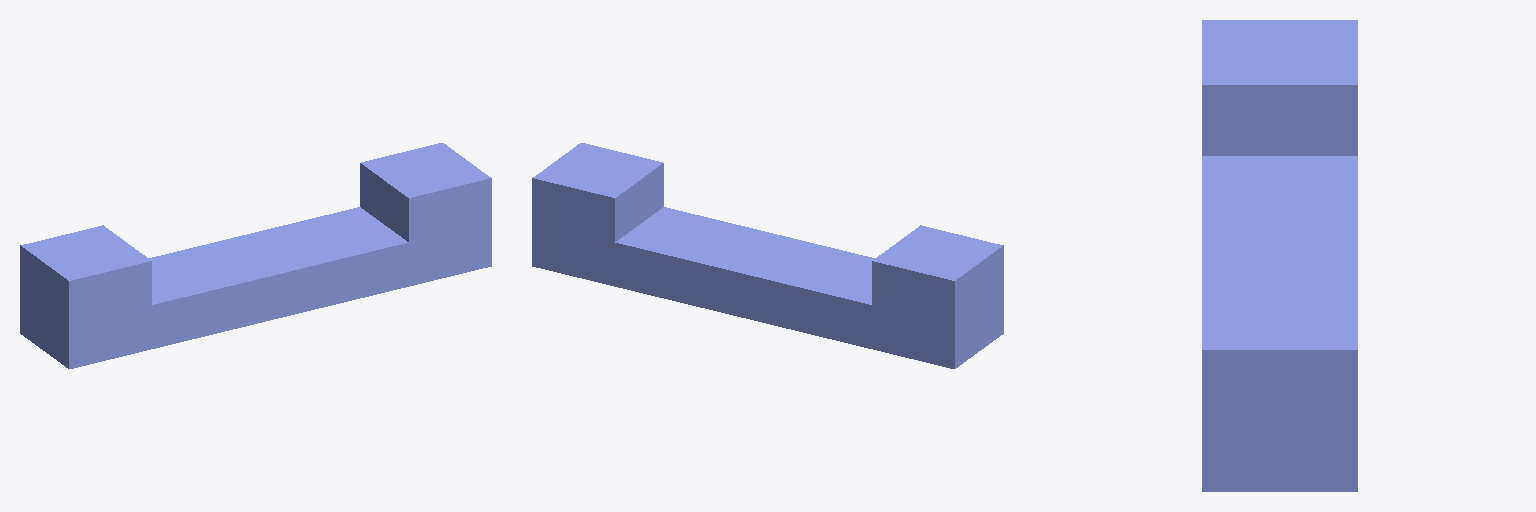
robot.urdf — obj_5:
<robot name="obj_5" version="1.0">
  <link name="obj_5_link">
    <collision name="obj_5_collision_1">
      <origin rpy="0.00000 0.00000 1.57080" xyz="0.13204 1.87503 1.12839"/>
      <geometry>
        <mesh filename="../meshes/obj/Cube.014.obj" scale="1.00000 0.98000 1.00000"/>
      </geometry>
    </collision>
    <collision name="obj_5_collision_2">
      <origin rpy="0.00000 0.00000 1.57080" xyz="-2.88312 1.87460 1.12839"/>
      <geometry>
        <mesh filename="../meshes/obj/Cube.015.obj" scale="1.00000 0.98000 1.00000"/>
      </geometry>
    </collision>
    <collision name="obj_5_collision_3">
      <origin rpy="0.00000 0.00000 1.57080" xyz="-1.37420 1.87525 0.94079"/>
      <geometry>
        <mesh filename="../meshes/obj/Cube.016.obj" scale="2.00000 6.08000 1.00000"/>
      </geometry>
    </collision>
    <inertial>
      <inertia ixx="6.65506" ixy="0.00000" ixz="-0.00000" iyy="0.48424" iyz="-0.00000" izz="6.58953"/>
      <origin rpy="0.00000 0.00000 0.00000" xyz="-1.37550 1.87500 1.04588"/>
      <mass value="5.00000"/>
    </inertial>
    <visual name="obj_5">
      <material name="turnaxis"/>
      <origin rpy="0.00000 0.00000 1.57080" xyz="-1.37550 1.87500 1.04588"/>
      <geometry>
        <mesh filename="../meshes/obj/luban-lock-sliding.004.obj" scale="0.05000 0.05000 0.05000"/>
      </geometry>
    </visual>
  </link>
  <material name="turnaxis">
    <color rgba="0.63922 0.70196 1.00000 1.00000"/>
  </material>
</robot>

--- Facts derived from the render (not from the file) ---
The picture shows the robot from 3 angles, left to right: view 1: azimuth 30°, elevation 25°; view 2: azimuth 150°, elevation 25°; view 3: azimuth 270°, elevation 25°; orthographic projection.
Robot: obj_5 — 1 links, 0 joints (none); root link obj_5_link; default pose: every joint at zero.
Links seen in each view (by area): view 1: obj_5_link; view 2: obj_5_link; view 3: obj_5_link.
Boxes of the visible links, x1,y1,x2,y2 form: obj_5_link: [20, 143, 491, 368]; obj_5_link: [532, 143, 1003, 368]; obj_5_link: [1202, 20, 1357, 491].
Bounding box of the posed robot: 3.75 × 0.75 × 0.75 m (x, y, z).
Meshes: 1 distinct files referenced, 1 mesh visuals loaded (1 OBJ).